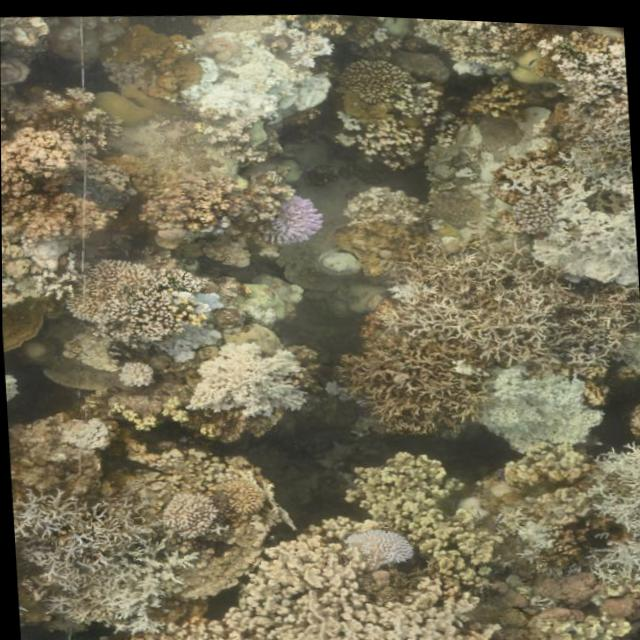Bleached Coral: (21, 480, 174, 633), (470, 356, 601, 455), (185, 329, 312, 412), (597, 437, 640, 570), (254, 180, 332, 247), (340, 518, 417, 570)
